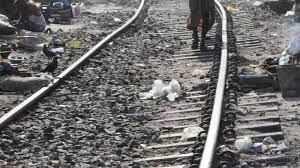mulch: (143, 76, 186, 104), (237, 135, 282, 155)
